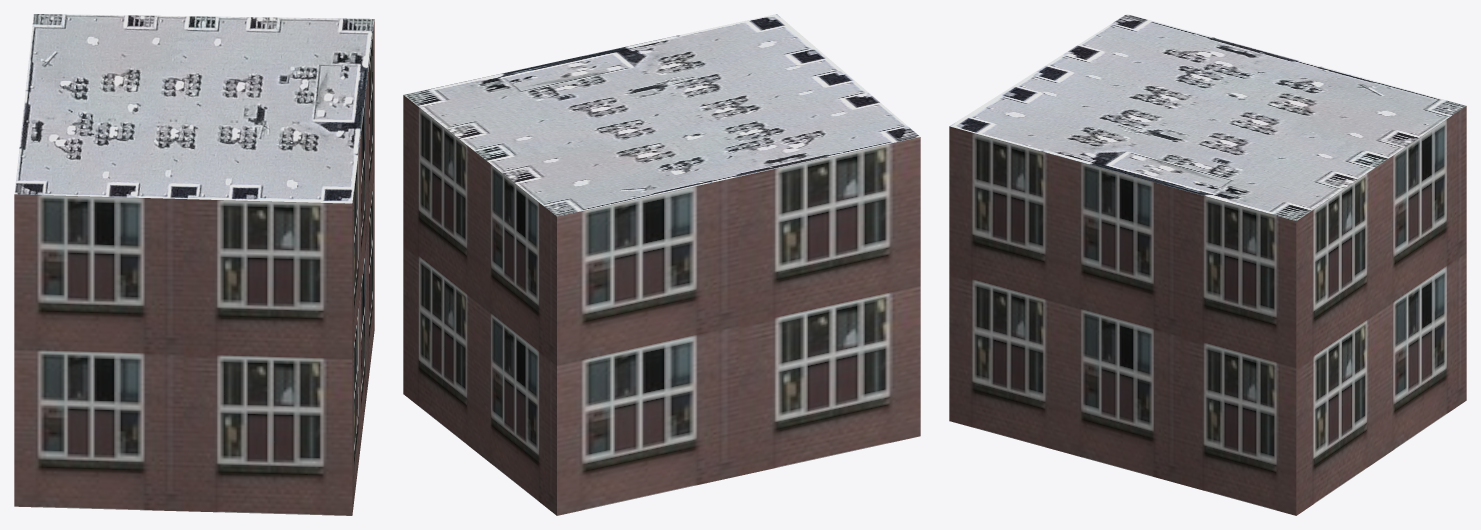
The model's file is ResTex__3039.fbx.
3 renders of one model, left to right at view 1: azimuth 30°, elevation 25°; view 2: azimuth 150°, elevation 25°; view 3: azimuth 270°, elevation 25°, orthographic. The views are drawn at different scales.
Parts seen in each view (by area): view 1: CityEngineMaterial_12_m, CityEngineMaterial_m; view 2: CityEngineMaterial_12_m, CityEngineMaterial_m; view 3: CityEngineMaterial_12_m, CityEngineMaterial_m.
Boxes of the visible parts, x1,y1,x2,y2 form: CityEngineMaterial_12_m: [14, 19, 374, 515]; CityEngineMaterial_m: [14, 14, 374, 203]; CityEngineMaterial_12_m: [403, 95, 920, 515]; CityEngineMaterial_m: [403, 14, 919, 216]; CityEngineMaterial_12_m: [949, 106, 1466, 515]; CityEngineMaterial_m: [950, 14, 1466, 220].
Size of the model in its own units: 9.05 by 6 by 9.54.
Materials: 2 (2 with a texture image).
